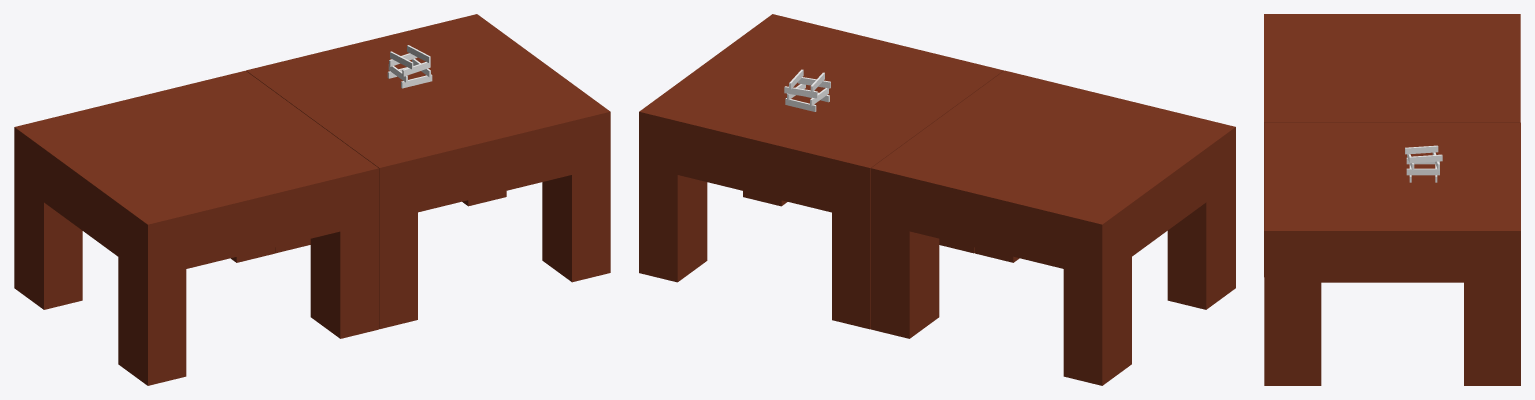
Rendered from keva_tower_rotated.dae.
3 renders of one model, left to right at view 1: azimuth 30°, elevation 25°; view 2: azimuth 150°, elevation 25°; view 3: azimuth 270°, elevation 25°, orthographic. The views are drawn at different scales.
Visible parts, largest first — view 1: base (×7); view 2: base (×7); view 3: base (×5), SketchUp (×2).
Part boxes in pixels (bbox=[...]): base (×7): bbox=[14, 14, 610, 385]; base (×7): bbox=[639, 14, 1235, 385]; base (×5): bbox=[1264, 14, 1520, 385]; SketchUp (×2): bbox=[1405, 145, 1442, 163].
Bounding box in the file's own units: 1.8 × 0.9009 × 0.6946.
